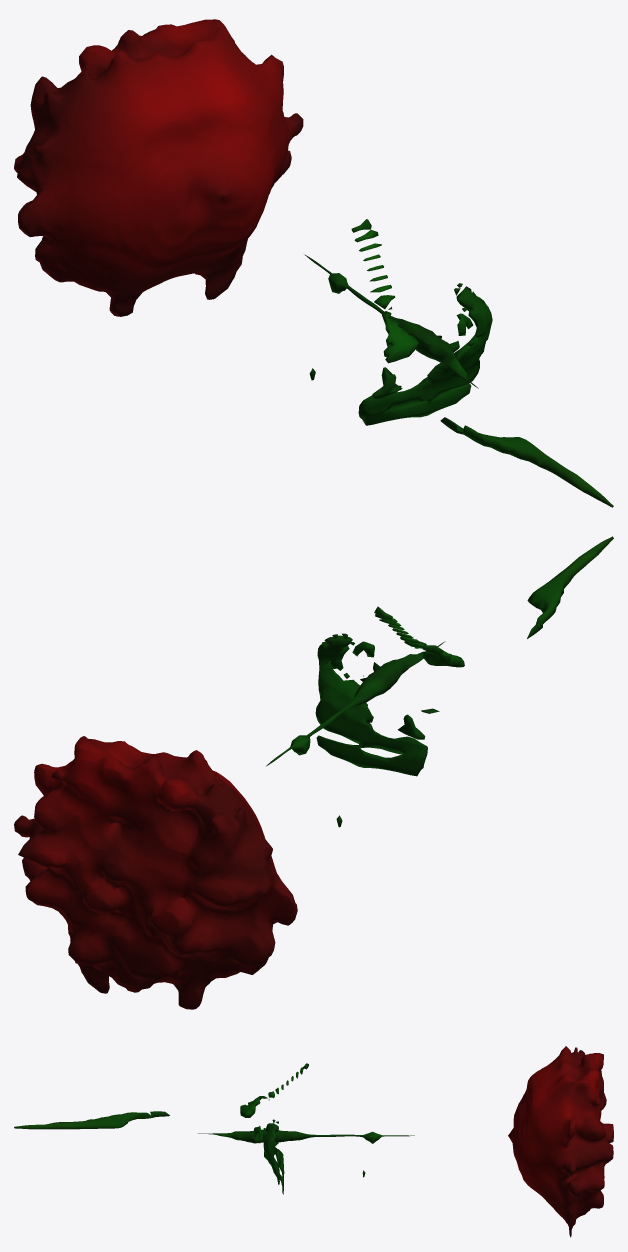
3 renders of one model, top to bottom at view 1: azimuth 30°, elevation 25°; view 2: azimuth 150°, elevation 25°; view 3: azimuth 270°, elevation 25°, orthographic. The views are drawn at different scales.
Visible parts, largest first — view 1: plyFile; view 2: plyFile; view 3: plyFile.
Part boxes in pixels (bbox=[...]): plyFile: bbox=[14, 19, 613, 507]; plyFile: bbox=[14, 536, 613, 1009]; plyFile: bbox=[14, 1046, 613, 1237].
Size of the model in its own units: 65.45 by 65.2 by 197.
